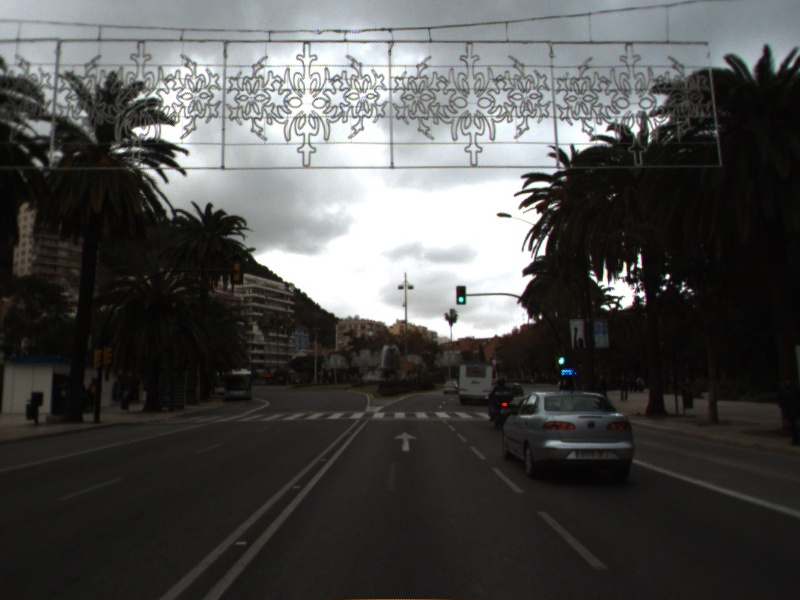STRAIGHT: (391, 429, 420, 453)
